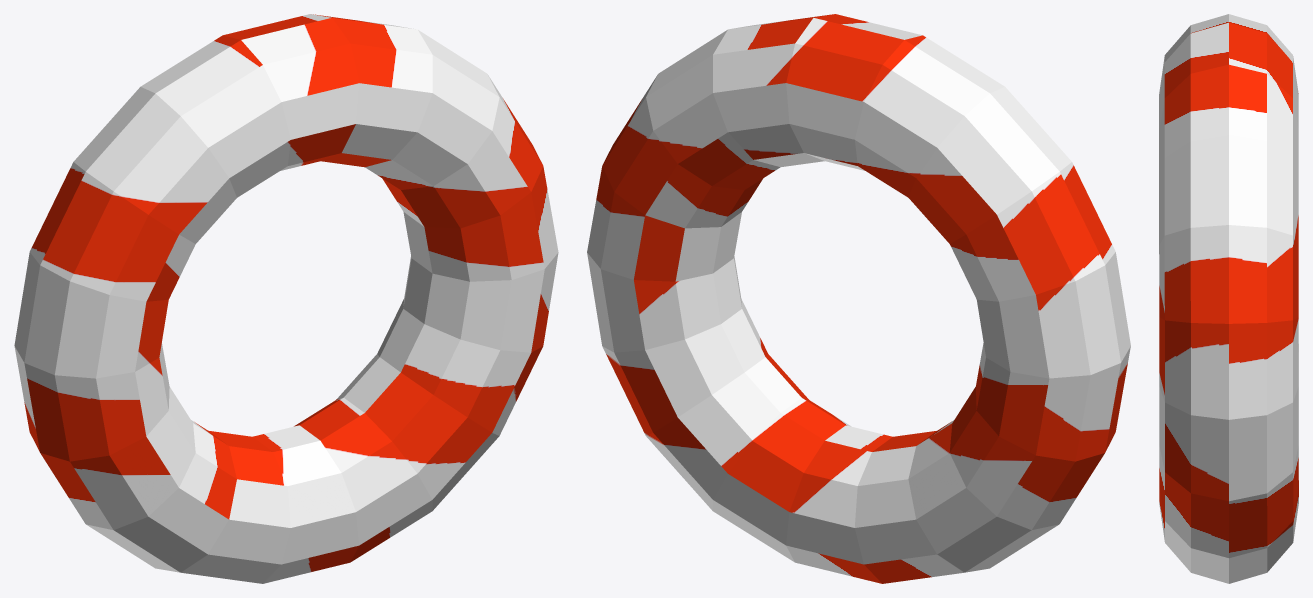
The model's file is tire.obj.
3 renders of one model, left to right at view 1: azimuth 30°, elevation 25°; view 2: azimuth 150°, elevation 25°; view 3: azimuth 270°, elevation 25°, orthographic. The views are drawn at different scales.
Parts seen in each view (by area): view 1: トーラス.001; view 2: トーラス.001; view 3: トーラス.001.
Boxes of the visible parts, x1=… form: トーラス.001: x1=14, y1=14, x2=558, y2=583; トーラス.001: x1=587, y1=14, x2=1130, y2=583; トーラス.001: x1=1159, y1=14, x2=1298, y2=583.
Size of the model in its own units: 1.1 by 1.09 by 0.2696.
